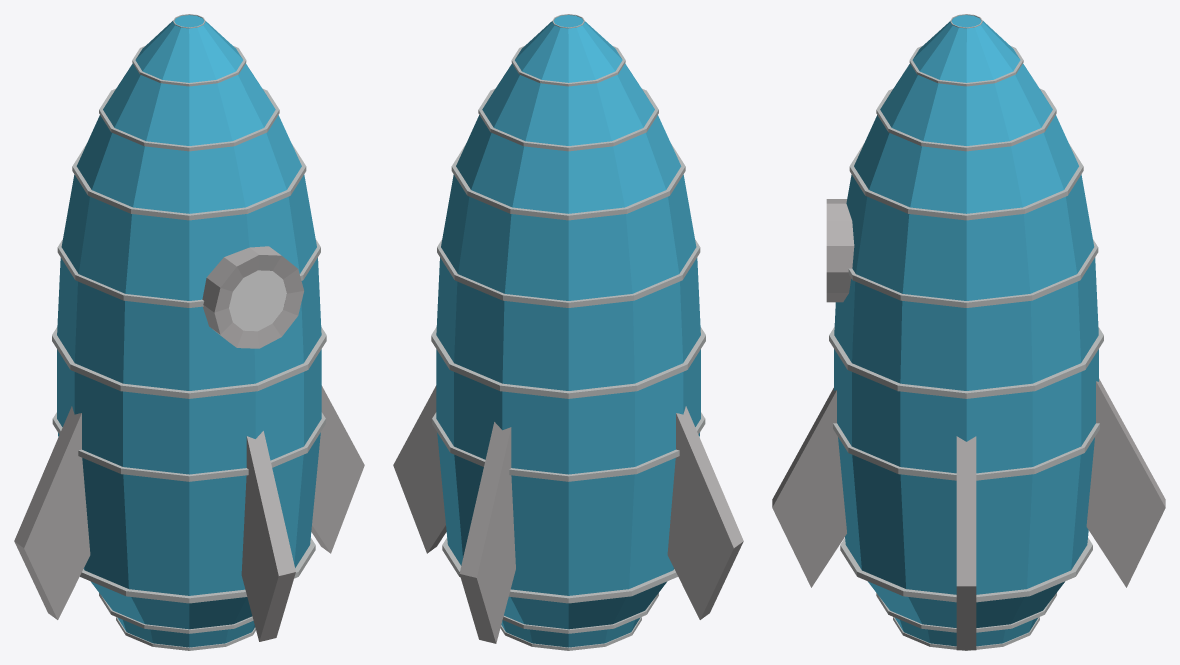
The model's file is rocket2 (3).fbx.
The picture shows the model from 3 angles, left to right: view 1: azimuth 30°, elevation 25°; view 2: azimuth 150°, elevation 25°; view 3: azimuth 270°, elevation 25°; orthographic projection.
Visible parts, largest first — view 1: rocket2wing; view 2: rocket2wing; view 3: rocket2wing.
Part boxes in pixels (x1,y1,x2,y2): rocket2wing: (14, 14, 364, 650); rocket2wing: (393, 14, 743, 650); rocket2wing: (772, 14, 1165, 650).
Bounding box in the file's own units: 297 × 499 × 297.
5 materials, 4 textured.
